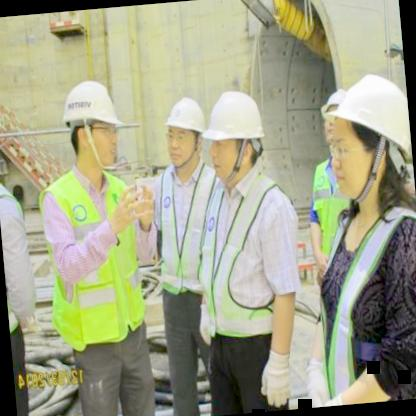helmet: (314, 62, 414, 210), (199, 82, 271, 188), (58, 72, 124, 174), (158, 92, 216, 172), (316, 83, 350, 146)
